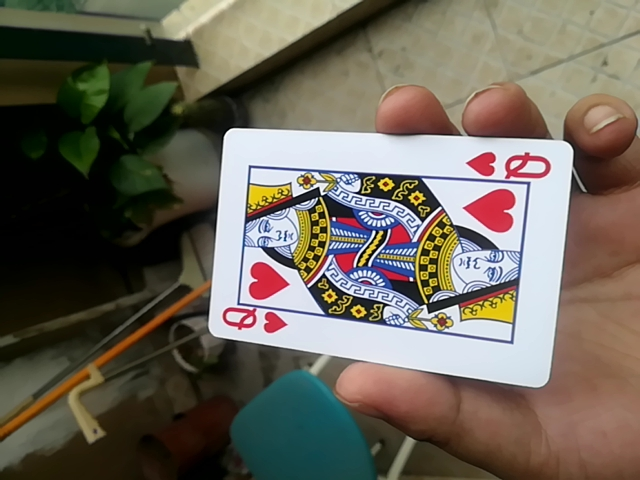hx q: (204, 125, 583, 386)
